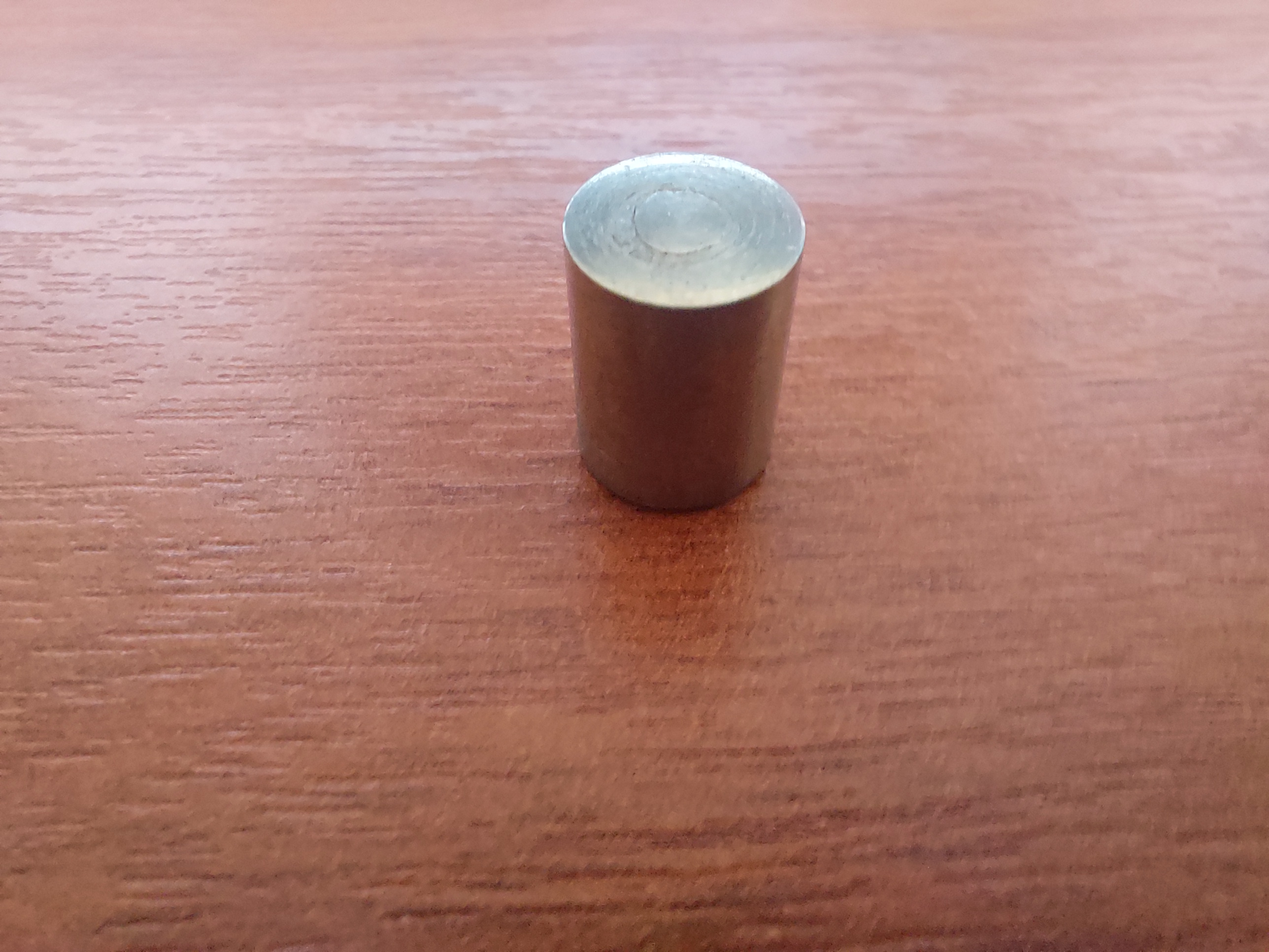tablet: (543, 140, 829, 534)
